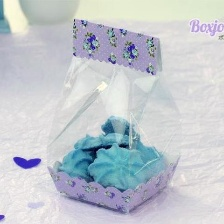snack: (38, 11, 188, 218)
